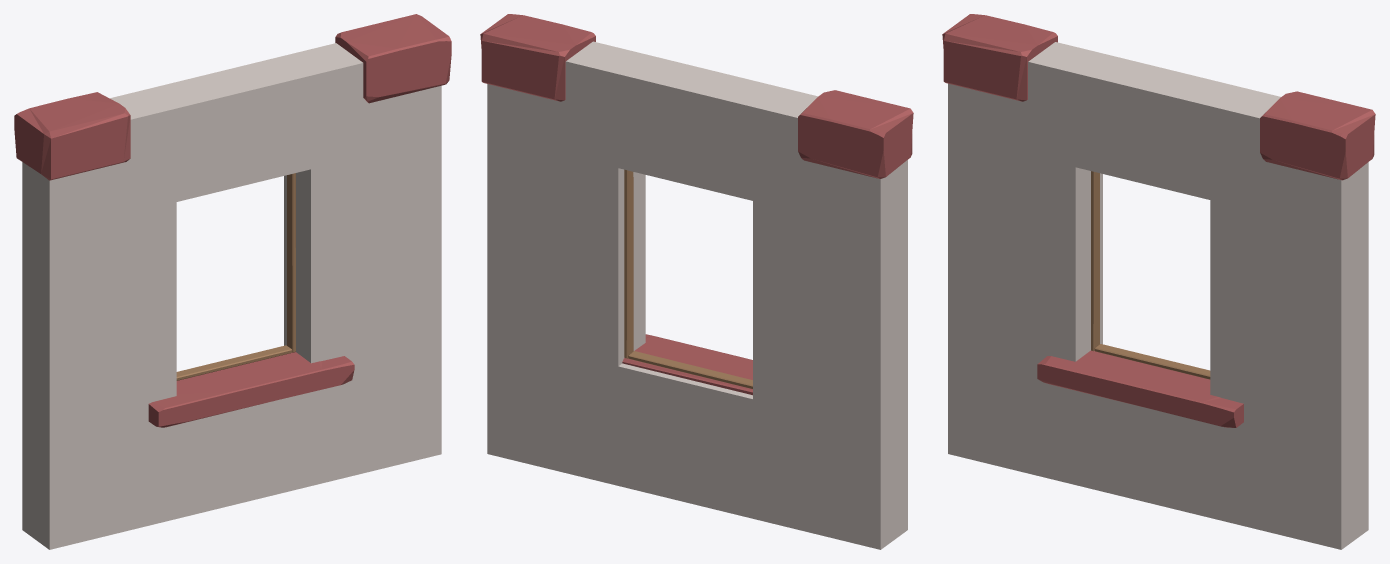
File: PK_Wall_Window_Big.fbx
3 views of the same model, side by side, from view 1: azimuth 30°, elevation 25°; view 2: azimuth 150°, elevation 25°; view 3: azimuth 330°, elevation 25° (orthographic).
Visible parts, largest first — view 1: PK_Wall_Window_Big; view 2: PK_Wall_Window_Big; view 3: PK_Wall_Window_Big.
Boxes of the visible parts, box(x1,y1,x2,y2) form: PK_Wall_Window_Big: box(14, 14, 451, 549); PK_Wall_Window_Big: box(480, 14, 913, 549); PK_Wall_Window_Big: box(942, 14, 1375, 549).
Bounding box in the file's own units: 206 × 204 × 35.04.
